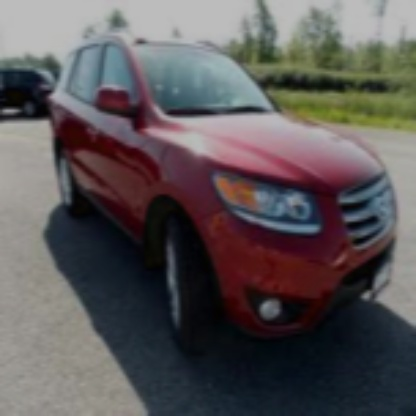Vehicle: (50, 36, 411, 356)
